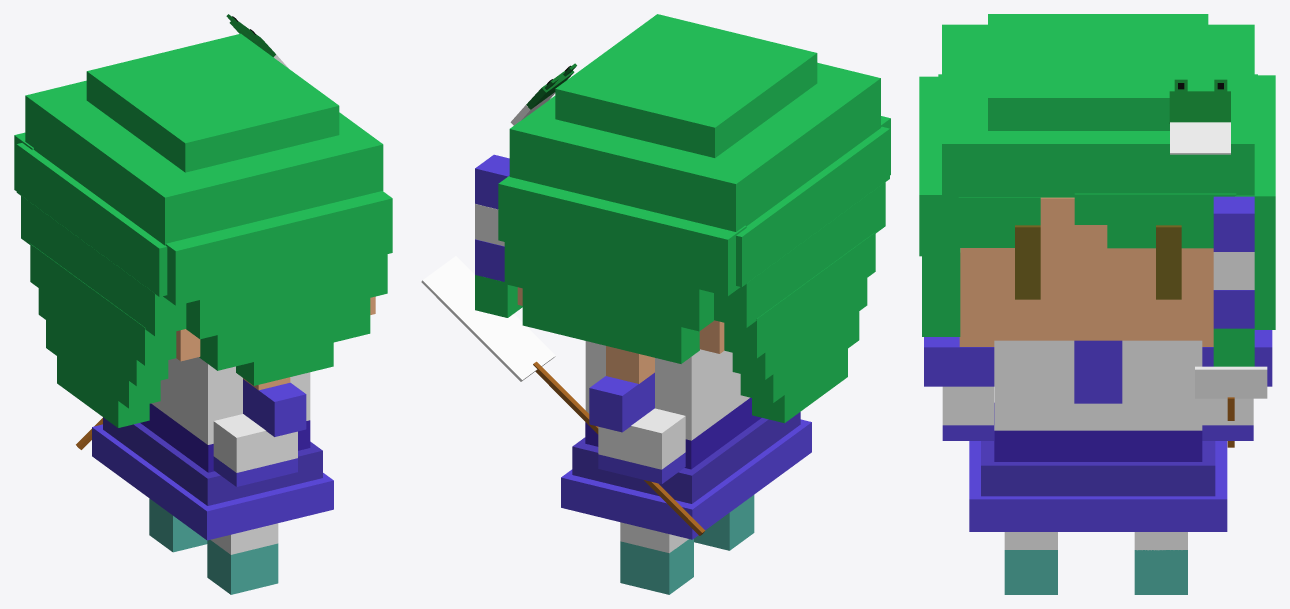
File: sanae.glb
3 renders of one model, left to right at view 1: azimuth 30°, elevation 25°; view 2: azimuth 150°, elevation 25°; view 3: azimuth 270°, elevation 25°, orthographic. The views are drawn at different scales.
Parts seen in each view (by area): view 1: Cube.046; view 2: Cube.046; view 3: Cube.046.
Part boxes in pixels (<box>): Cube.046: <box>14,14,392,594</box>; Cube.046: <box>421,14,890,594</box>; Cube.046: <box>919,14,1275,594</box>.
Size of the model in its own units: 2.55 by 3.88 by 2.3.
